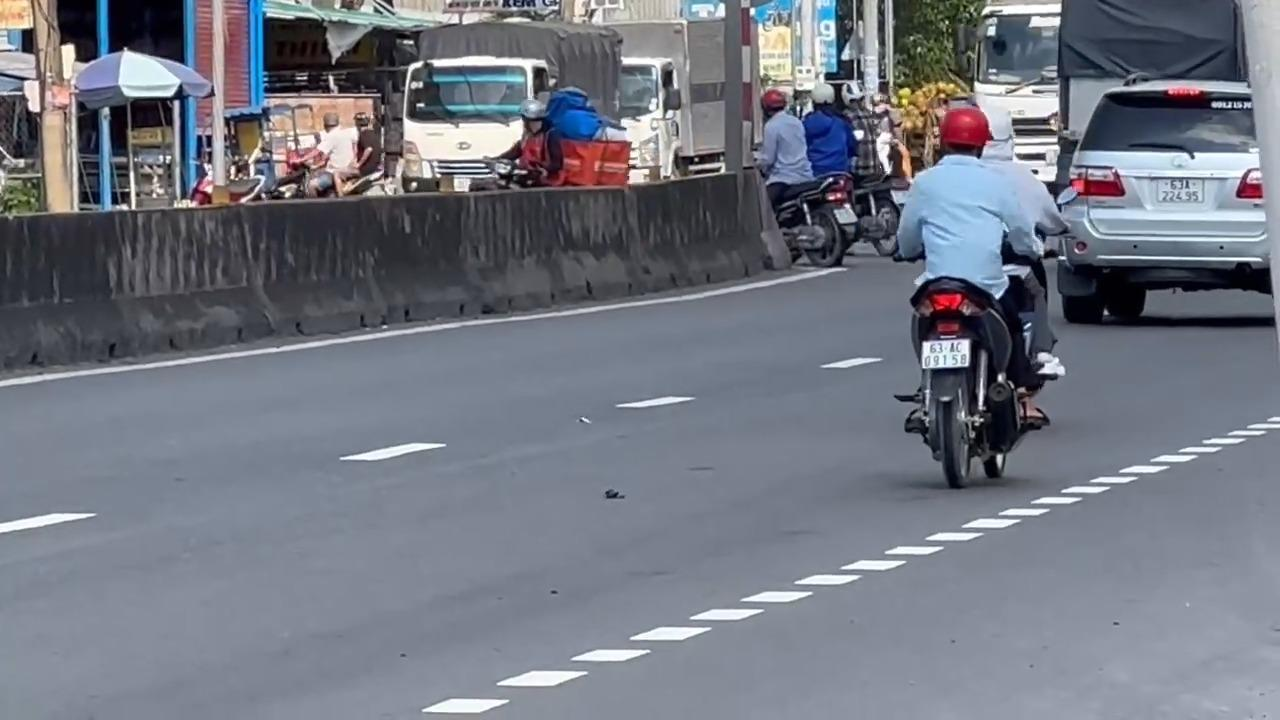bien_so: (919, 337, 971, 369), (1152, 177, 1205, 204)
